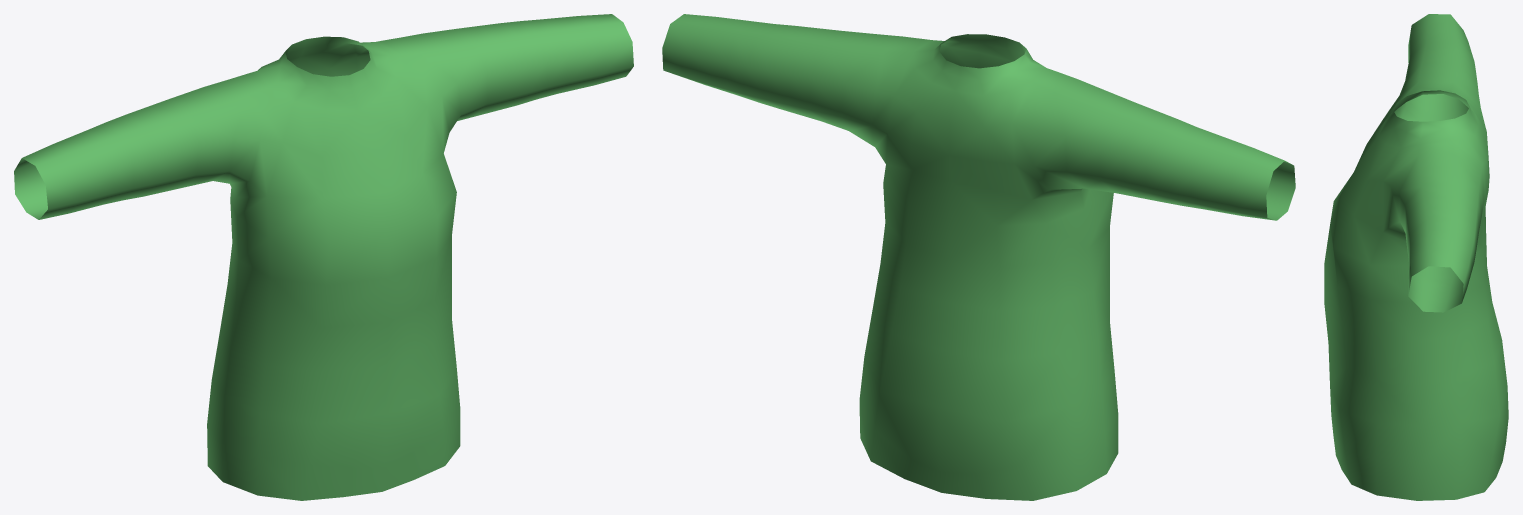
Rendered from Outerwear_Green_009.glb.
The picture shows the model from 3 angles, left to right: view 1: azimuth 30°, elevation 25°; view 2: azimuth 150°, elevation 25°; view 3: azimuth 270°, elevation 25°; orthographic projection. The views are drawn at different scales.
Visible parts, largest first — view 1: Outerwear_Green_009; view 2: Outerwear_Green_009; view 3: Outerwear_Green_009.
Part boxes in pixels (x1,y1,x2,y2): Outerwear_Green_009: (14, 14, 633, 500); Outerwear_Green_009: (662, 14, 1295, 500); Outerwear_Green_009: (1324, 14, 1508, 500).
Bounding box in the file's own units: 1.22 × 0.8008 × 0.3763.
Materials: 1 (1 with a texture image).
